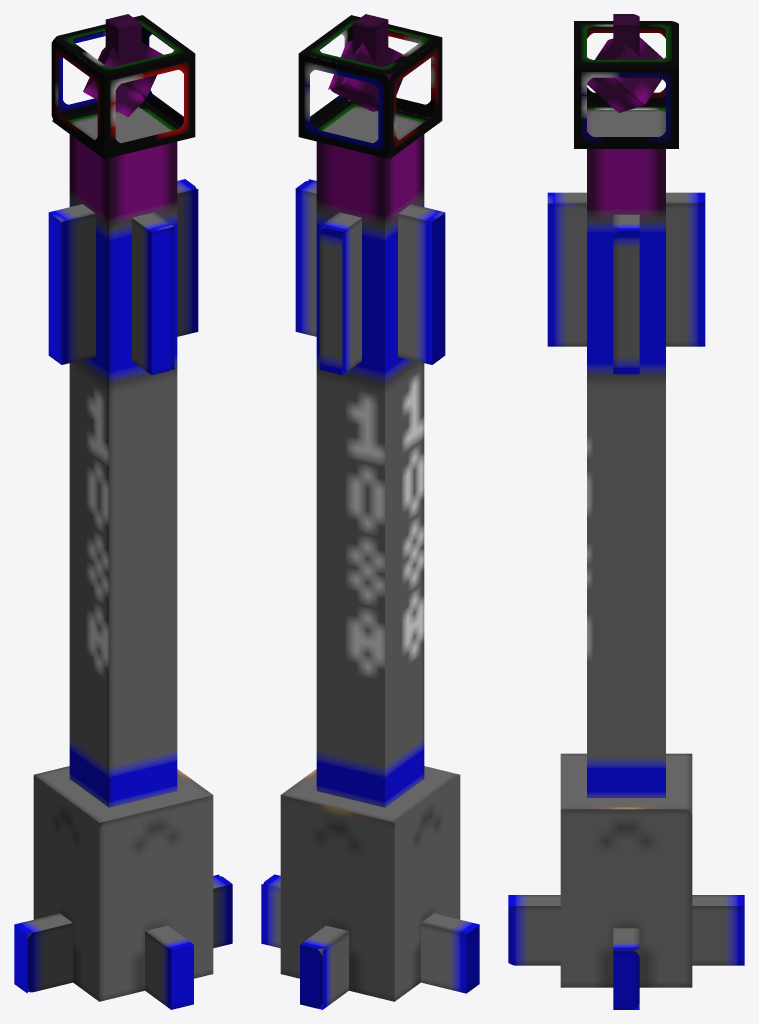
The model's file is missile_antigravity.obj.
The picture shows the model from 3 angles, left to right: view 1: azimuth 30°, elevation 25°; view 2: azimuth 150°, elevation 25°; view 3: azimuth 270°, elevation 25°; orthographic projection.
Visible parts, largest first — view 1: group_16, group_15, Component_64, group_13, Component_63, group_14, group_12; view 2: group_16, group_15, Component_64, group_13, Component_63, group_14, group_12; view 3: group_16, group_15, Component_64, Component_63, group_13, group_14, group_12.
Boxes of the visible parts, x1,y1,x2,y2 form: group_16: (69,106,177,828); group_15: (33,766,213,1001); Component_64: (48,179,198,375); group_13: (51,15,195,159); Component_63: (14,874,232,1009); group_14: (83,42,163,117); group_12: (105,14,141,59); group_16: (316,106,424,822); group_15: (280,766,460,1001); Component_64: (295,179,445,375); group_13: (298,15,442,159); Component_63: (261,874,479,1009); group_14: (328,40,403,111); group_12: (352,14,388,63); group_16: (587,110,665,797); group_15: (560,753,692,987); Component_64: (547,192,705,374); Component_63: (508,895,744,1009); group_13: (574,21,678,148); group_14: (587,37,663,112); group_12: (613,14,639,56).
Bounding box in the file's own units: 113 × 498 × 113.
